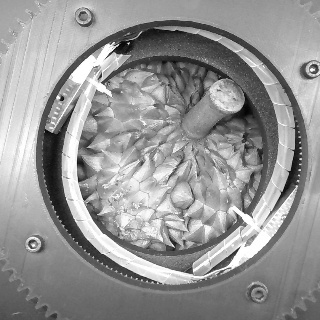base: (175, 108, 214, 147)
end: (209, 78, 245, 112)
